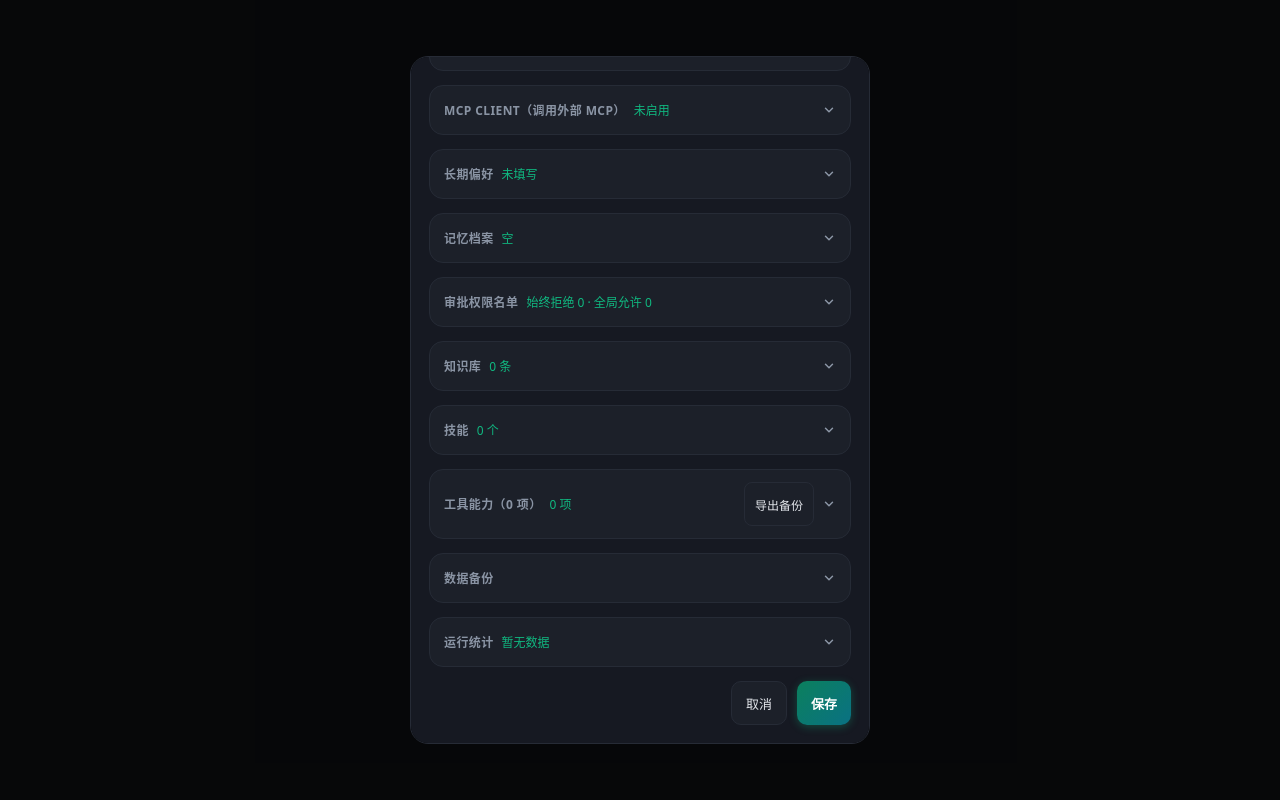
SettingsPanel 能力面 › 统计响应结构不完整时降级为「暂无数据」，不白屏
(page scrolled)
Step 1. Click the button "运行统计 暂无数据" → (469, 642), box [444,634,836,651]
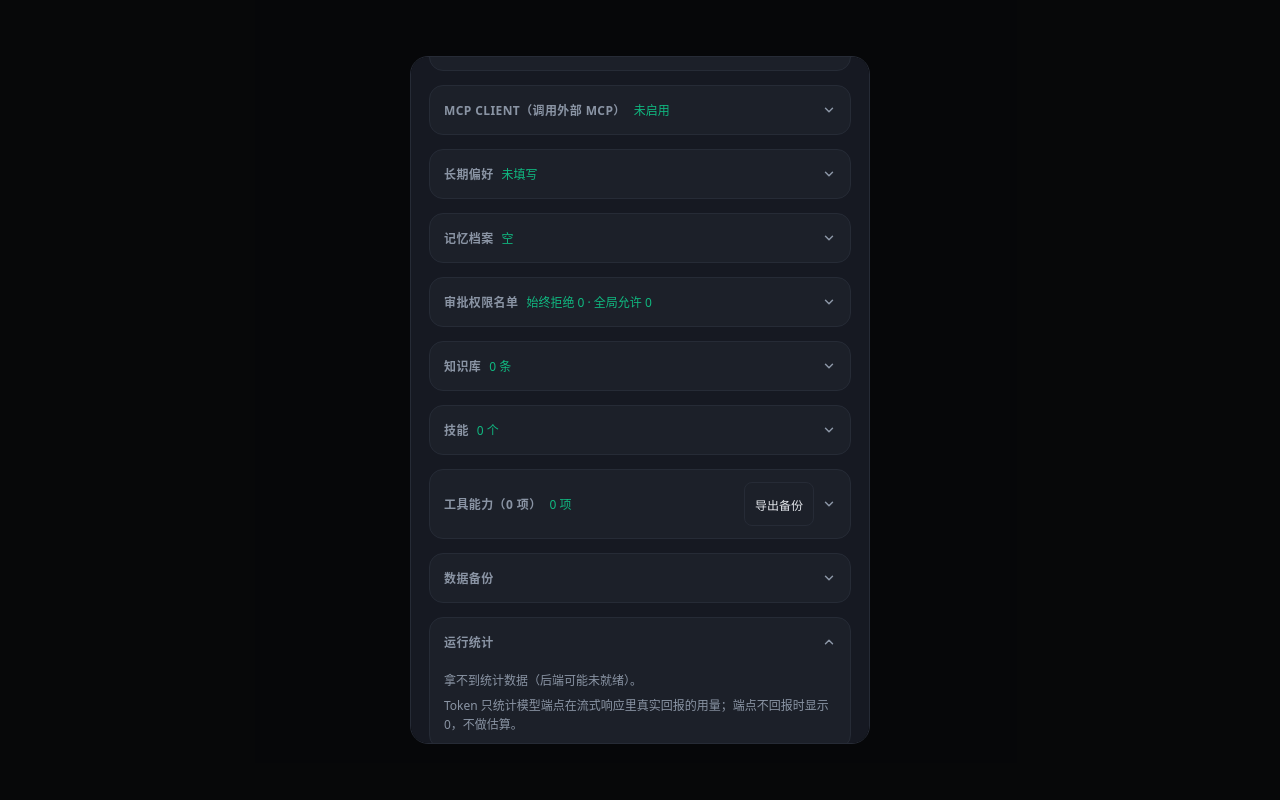
Check: the text "拿不到统计数据（后端可能未就绪）。" is shown, box [444,672,642,689]
